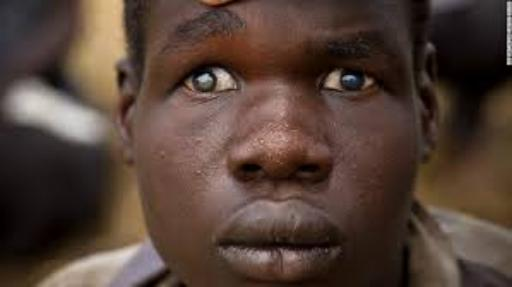left_eye: (319, 69, 387, 98)
left_lip_corner: (321, 239, 350, 253)
right_eye: (172, 62, 243, 102)
right_lip_corner: (208, 229, 235, 256)
